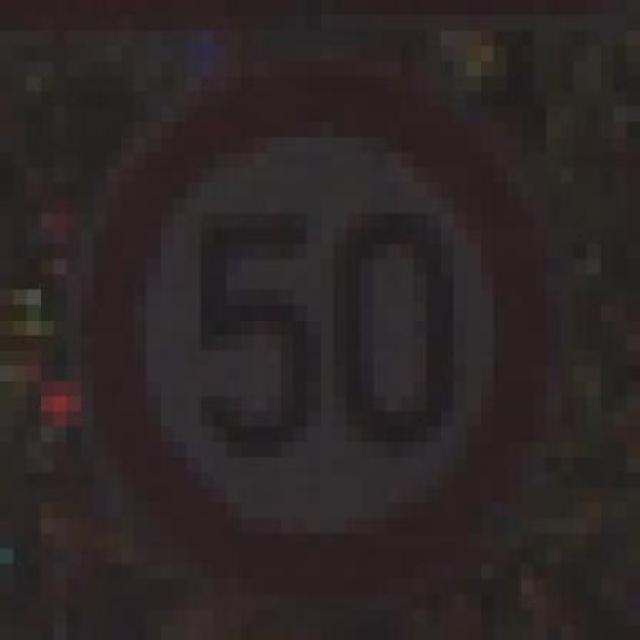50 mph speed limit: (78, 28, 572, 623)
